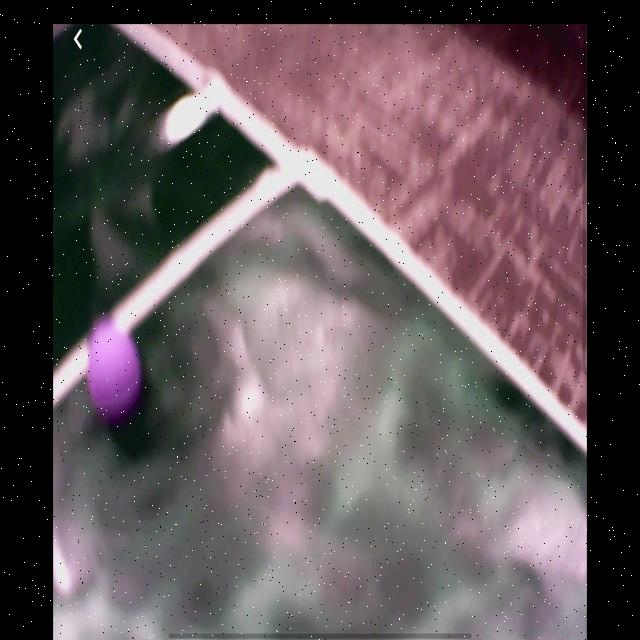ball: (86, 317, 143, 422)
